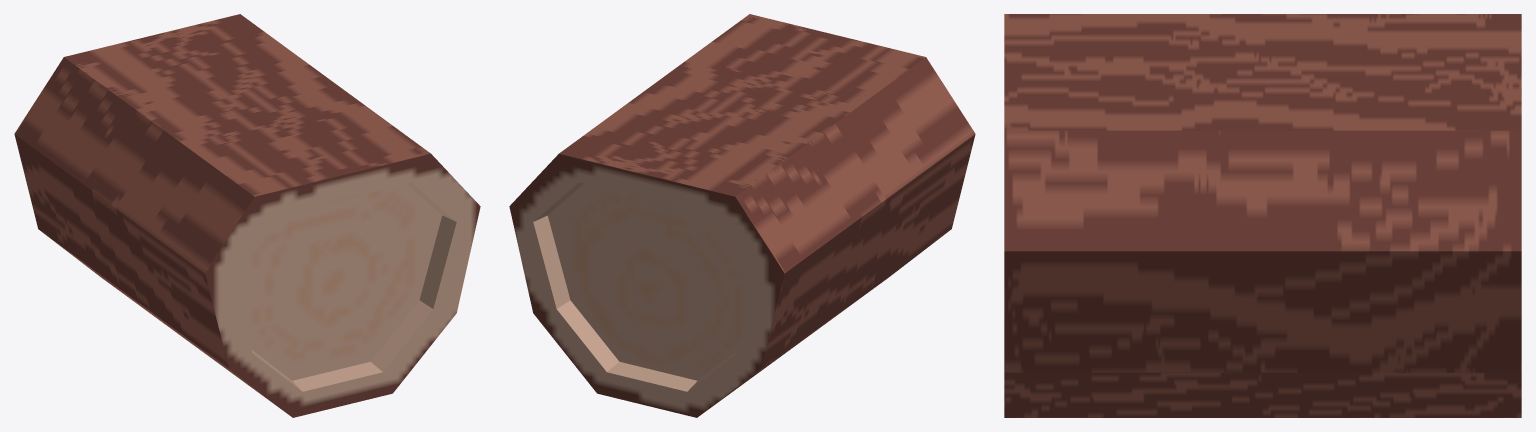
Rendered from unitlog.fbx.
3 views of the same model, side by side, from view 1: azimuth 30°, elevation 25°; view 2: azimuth 150°, elevation 25°; view 3: azimuth 270°, elevation 25° (orthographic). The views are drawn at different scales.
Parts seen in each view (by area): view 1: Cube; view 2: Cube; view 3: Cube.
Boxes of the visible parts, x1,y1,x2,y2 form: Cube: (14,14,480,417); Cube: (509,14,975,417); Cube: (1004,14,1521,417).
Size of the model in its own units: 250 by 200 by 300.
